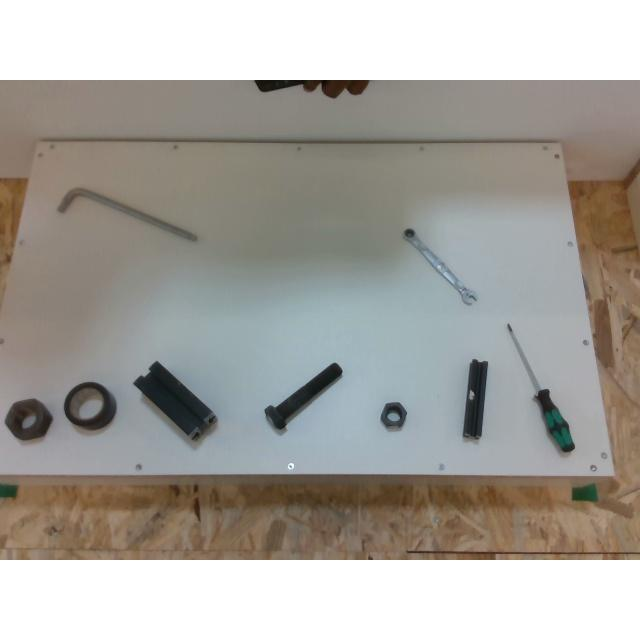AllenKey: (56, 188, 196, 240)
F20_20_B: (463, 359, 487, 439)
M20: (380, 402, 406, 430)
M20_100: (265, 363, 341, 429)
M30: (4, 400, 52, 440)
S40_40_B: (134, 361, 218, 443)
Screwdriver: (506, 322, 574, 452)
Wrench: (404, 229, 476, 303)
